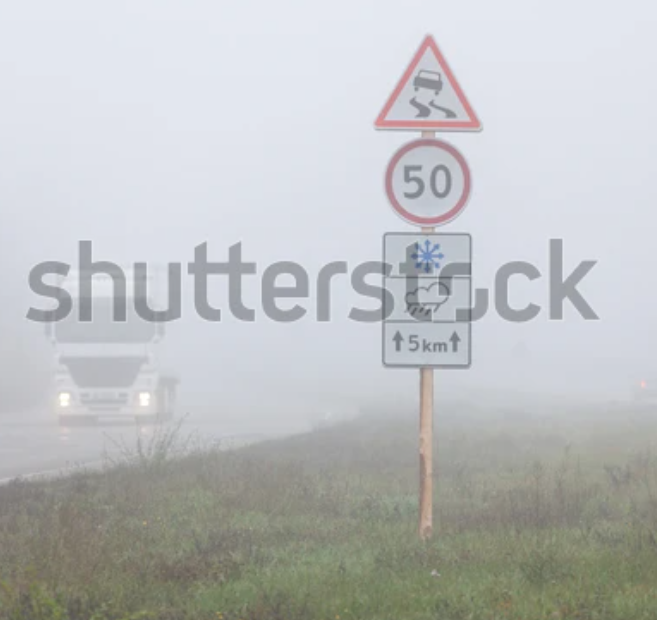Slippery road: (368, 21, 482, 138)
Speed limit: (374, 137, 484, 223)
